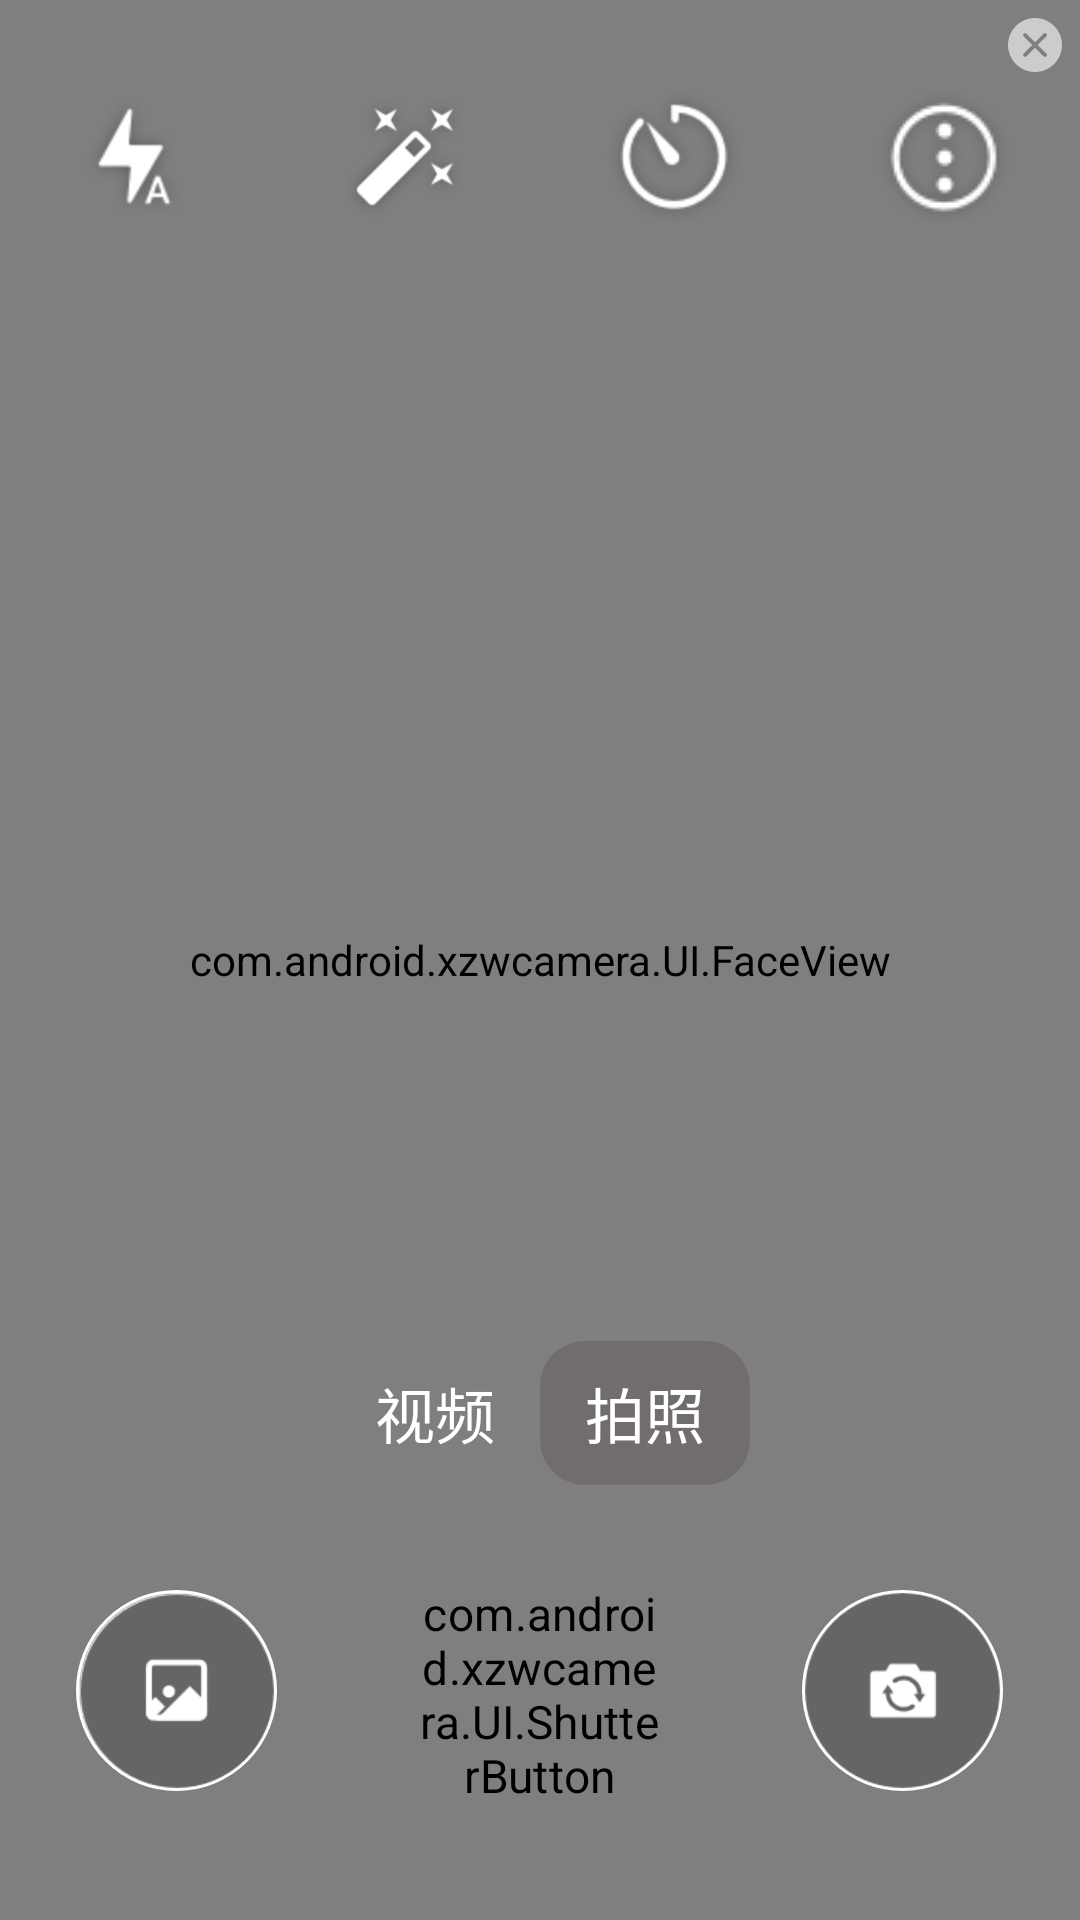

Icons on this 1080*1920 Android screen, each with its box as (x1, y1, x2, y2):
close: (1008, 18, 1062, 72)
countdown: (622, 104, 727, 209)
front back switcher: (802, 1590, 1003, 1791)
photograph album: (76, 1590, 277, 1791)
quick settings: (891, 104, 997, 211)
滤镜: (357, 109, 453, 205)
闪光灯: (98, 109, 170, 204)
